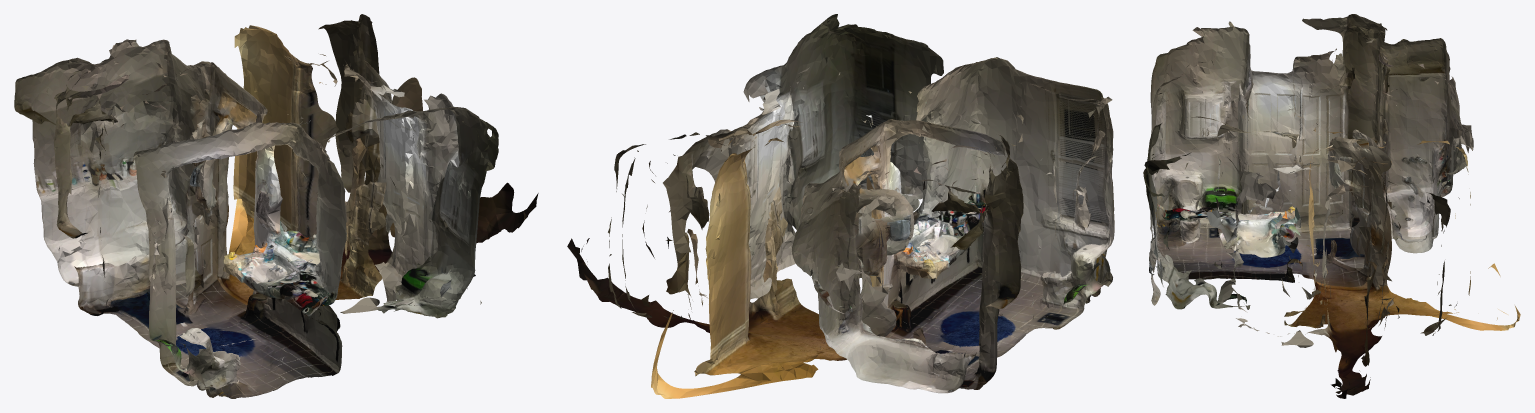
The model's file is upstairs_bathroom.glb.
3 renders of one model, left to right at view 1: azimuth 30°, elevation 25°; view 2: azimuth 150°, elevation 25°; view 3: azimuth 270°, elevation 25°, orthographic. The views are drawn at different scales.
Bounding box in the file's own units: 6.33 × 3.53 × 5.28.
Materials: 4 (4 with a texture image).
